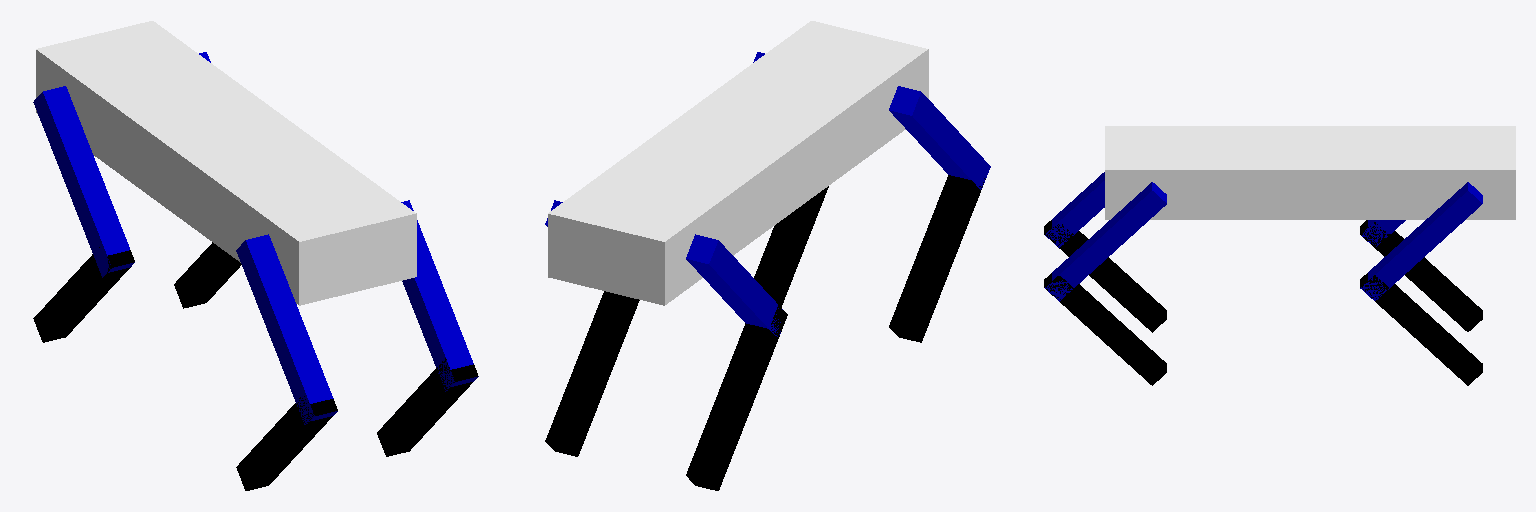
robot.urdf — telos:
<?xml version="1.0" ?>
<!-- =================================================================================== -->
<!-- |    This document was autogenerated by xacro from telos.xacro                    | -->
<!-- |    EDITING THIS FILE BY HAND IS NOT RECOMMENDED                                 | -->
<!-- =================================================================================== -->
<robot name="telos">
  <!-- ros_control plugin -->
  <gazebo>
    <plugin filename="libgazebo_ros_control.so" name="gazebo_ros_control">
      <robotNamespace>/telos</robotNamespace>
      <robotSimType>gazebo_ros_control/DefaultRobotHWSim</robotSimType>
    </plugin>
  </gazebo>
  <gazebo>
    <plugin filename="move_plugin.so" name="move"/>
  </gazebo>
  <!-- <xacro:property name="thighMass" value="0.4"/> -->
  <material name="black">
    <color rgba="0.0 0.0 0.0 1.0"/>
  </material>
  <material name="blue">
    <color rgba="0.0 0.0 0.8 1.0"/>
  </material>
  <material name="green">
    <color rgba="0.0 0.8 0.0 1.0"/>
  </material>
  <material name="grey">
    <color rgba="0.2 0.2 0.2 1.0"/>
  </material>
  <material name="orange">
    <color rgba="1.0 0.4235294117647059 0.0392156862745098 1.0"/>
  </material>
  <material name="brown">
    <color rgba="0.8705882352941177 0.8117647058823529 0.7647058823529411 1.0"/>
  </material>
  <material name="red">
    <color rgba="0.8 0.0 0.0 1.0"/>
  </material>
  <material name="white">
    <color rgba="1.0 1.0 1.0 1.0"/>
  </material>
  <!-- <link name="base_link"/>
    
<joint name="fixed" type="fixed">
    <parent link="base_link"/>
    ACHTUNG
    <child link="corpus"/>
    <origin xyz="0.0 0.0 0.0"/>
</joint> -->
  <link name="base_link">
    <visual>
      <geometry>
        <box size=".1 0.39 0.052"/>
        <box size="0.1 0.39 0.052"/>
      </geometry>
      <origin rpy="0.0 0.0 0.0" xyz="0 0 0"/>
      <material name="white"/>
    </visual>
    <collision>
      <geometry>
        <box size="0.1 0.39 0.052"/>
      </geometry>
    </collision>
    <inertial>
      <mass value="2.5"/>
      <inertia ixx="0.032250833" ixy="0.0" ixz="0.0" iyy="0.002646667" iyz="0.0" izz="0.033770833"/>
    </inertial>
  </link>
  <link name="right_front_rotator">
    <visual>
      <geometry>
        <box size="1e-13 1e-13 1e-13"/>
      </geometry>
      <origin xyz="0 0 0"/>
      <material name="black"/>
    </visual>
    <!-- <collision>
            <geometry>
                <box size="${corpusWidth} ${corpusDepth} ${corpusHeight}"/> 
            </geometry>
        </collision> -->
    <inertial>
      <mass value="0.0001"/>
      <inertia ixx="0.00000000001" ixy="0.0" ixz="0.0" iyy="0.00000000001" iyz="0.0" izz="0.00000000001"/>
    </inertial>
  </link>
  <joint name="corpus_to_right_front_rotator" type="revolute">
    <axis xyz="0.0 1 0.0"/>
    <limit effort="1000.0" lower="-1.253294755" upper="1.253294755" velocity="0.5"/>
    <parent link="base_link"/>
    <child link="right_front_rotator"/>
    <origin xyz="0.06 0.15 0"/>
  </joint>
  <transmission name="right_front_rotator_transmission">
    <type>transmission_interface/SimpleTransmission</type>
    <joint name="corpus_to_right_front_rotator">
      <hardwareInterface>hardware_interface/EffortJointInterface</hardwareInterface>
    </joint>
    <actuator name="right_front_motor">
      <mechanicalReduction>&quot;1.88&quot;</mechanicalReduction>
      <hardwareInterface>hardware_interface/EffortJointInterface</hardwareInterface>
    </actuator>
  </transmission>
  <link name="right_front_thigh">
    <visual>
      <geometry>
        <box size="0.02 0.145 0.02"/>
      </geometry>
      <origin xyz="0 -0.0625 0"/>
      <material name="blue"/>
    </visual>
    <collision>
      <geometry>
        <box size="0.02 0.145 0.02"/>
      </geometry>
    </collision>
    <inertial>
      <mass value="0.8"/>
      <!-- <inertia ixx="0.000704167" ixy="0.0" ixz="0.0"
         iyy="0.0000532292" iyz="0.0" izz="0.0000704167"/> -->
      <inertia ixx="0.000904167" ixy="0.0" ixz="0.0" iyy="0.0000732292" iyz="0.0" izz="0.0000904167"/>
    </inertial>
  </link>
  <joint name="rotator_to_right_front_thigh" type="revolute">
    <axis xyz="1 0.0 0.0"/>
    <limit effort="1000.0" lower="-1.253294755" upper="1.253294755" velocity="0.5"/>
    <parent link="right_front_rotator"/>
    <child link="right_front_thigh"/>
    <origin rpy="0.785 0.0 0.0" xyz="0.0 0.0 0.0"/>
  </joint>
  <transmission name="right_front_thigh_transmission">
    <type>transmission_interface/SimpleTransmission</type>
    <joint name="rotator_to_right_front_thigh">
      <hardwareInterface>hardware_interface/EffortJointInterface</hardwareInterface>
    </joint>
    <actuator name="right_front_thigh_motor">
      <mechanicalReduction>&quot;1.88&quot;</mechanicalReduction>
      <hardwareInterface>hardware_interface/EffortJointInterface</hardwareInterface>
    </actuator>
  </transmission>
  <link name="right_front_feet">
    <visual>
      <geometry>
        <box size="0.02 0.145 0.02"/>
      </geometry>
      <origin xyz="0.0 -0.0625 0.0"/>
      <material name="black"/>
    </visual>
    <collision>
      <geometry>
        <box size="0.02 0.145 0.02"/>
      </geometry>
    </collision>
    <inertial>
      <mass value="0.1"/>
      <!-- <inertia ixx="0.000704167" ixy="0.0" ixz="0.0"
         iyy="0.000532292" iyz="0.0" izz="0.000704167"/> -->
      <inertia ixx="0,[number redacted]" ixy="0.0" ixz="0.0" iyy="0.665365" iyz="0.0" izz="0,[number redacted]"/>
    </inertial>
  </link>
  <joint name="thigh_to_right_front_feet" type="revolute">
    <axis xyz="1 0.0 0.0"/>
    <limit effort="1000.0" lower="-0.785" upper="0.785" velocity="0.5"/>
    <parent link="right_front_thigh"/>
    <child link="right_front_feet"/>
    <origin rpy="1.57 0.0 0.0" xyz="0 -0.125 0"/>
  </joint>
  <transmission name="right_front_feet_transmission">
    <type>transmission_interface/SimpleTransmission</type>
    <joint name="thigh_to_right_front_feet">
      <hardwareInterface>hardware_interface/EffortJointInterface</hardwareInterface>
    </joint>
    <actuator name="right_front_feet_motor">
      <mechanicalReduction>&quot;1.5&quot;</mechanicalReduction>
      <hardwareInterface>hardware_interface/EffortJointInterface</hardwareInterface>
    </actuator>
  </transmission>
  <link name="left_front_rotator">
    <visual>
      <geometry>
        <box size="1e-13 1e-13 1e-13"/>
      </geometry>
      <origin xyz="0 0 0"/>
      <material name="black"/>
    </visual>
    <!-- <collision>
            <geometry>
                <box size="${corpusWidth} ${corpusDepth} ${corpusHeight}"/> 
            </geometry>
        </collision> -->
    <inertial>
      <mass value="0.0001"/>
      <inertia ixx="0.00000000001" ixy="0.0" ixz="0.0" iyy="0.00000000001" iyz="0.0" izz="0.00000000001"/>
    </inertial>
  </link>
  <joint name="corpus_to_left_front_rotator" type="revolute">
    <axis xyz="0.0 1 0.0"/>
    <limit effort="1000.0" lower="-1.253294755" upper="1.253294755" velocity="0.5"/>
    <parent link="base_link"/>
    <child link="left_front_rotator"/>
    <origin xyz="-0.06 0.15 0"/>
  </joint>
  <transmission name="left_front_rotator_transmission">
    <type>transmission_interface/SimpleTransmission</type>
    <joint name="corpus_to_left_front_rotator">
      <hardwareInterface>hardware_interface/EffortJointInterface</hardwareInterface>
    </joint>
    <actuator name="left_front_motor">
      <mechanicalReduction>&quot;1.88&quot;</mechanicalReduction>
      <hardwareInterface>hardware_interface/EffortJointInterface</hardwareInterface>
    </actuator>
  </transmission>
  <link name="left_front_thigh">
    <visual>
      <geometry>
        <box size="0.02 0.145 0.02"/>
      </geometry>
      <origin xyz="0 -0.0625 0"/>
      <material name="blue"/>
    </visual>
    <collision>
      <geometry>
        <box size="0.02 0.145 0.02"/>
      </geometry>
    </collision>
    <inertial>
      <mass value="0.8"/>
      <!-- <inertia ixx="0.000704167" ixy="0.0" ixz="0.0"
         iyy="0.0000532292" iyz="0.0" izz="0.0000704167"/> -->
      <inertia ixx="0.000904167" ixy="0.0" ixz="0.0" iyy="0.0000732292" iyz="0.0" izz="0.0000904167"/>
    </inertial>
  </link>
  <joint name="rotator_to_left_front_thigh" type="revolute">
    <axis xyz="1 0.0 0.0"/>
    <limit effort="1000.0" lower="-1.253294755" upper="1.253294755" velocity="0.5"/>
    <parent link="left_front_rotator"/>
    <child link="left_front_thigh"/>
    <origin rpy="0.785 0.0 0.0" xyz="0.0 0.0 0.0"/>
  </joint>
  <transmission name="left_front_thigh_transmission">
    <type>transmission_interface/SimpleTransmission</type>
    <joint name="rotator_to_left_front_thigh">
      <hardwareInterface>hardware_interface/EffortJointInterface</hardwareInterface>
    </joint>
    <actuator name="left_front_thigh_motor">
      <mechanicalReduction>&quot;1.88&quot;</mechanicalReduction>
      <hardwareInterface>hardware_interface/EffortJointInterface</hardwareInterface>
    </actuator>
  </transmission>
  <link name="left_front_feet">
    <visual>
      <geometry>
        <box size="0.02 0.145 0.02"/>
      </geometry>
      <origin xyz="0.0 -0.0625 0.0"/>
      <material name="black"/>
    </visual>
    <collision>
      <geometry>
        <box size="0.02 0.145 0.02"/>
      </geometry>
    </collision>
    <inertial>
      <mass value="0.1"/>
      <!-- <inertia ixx="0.000704167" ixy="0.0" ixz="0.0"
         iyy="0.000532292" iyz="0.0" izz="0.000704167"/> -->
      <inertia ixx="0,[number redacted]" ixy="0.0" ixz="0.0" iyy="0.665365" iyz="0.0" izz="0,[number redacted]"/>
    </inertial>
  </link>
  <joint name="thigh_to_left_front_feet" type="revolute">
    <axis xyz="1 0.0 0.0"/>
    <limit effort="1000.0" lower="-0.785" upper="0.785" velocity="0.5"/>
    <parent link="left_front_thigh"/>
    <child link="left_front_feet"/>
    <origin rpy="1.57 0.0 0.0" xyz="0 -0.125 0"/>
  </joint>
  <transmission name="left_front_feet_transmission">
    <type>transmission_interface/SimpleTransmission</type>
    <joint name="thigh_to_left_front_feet">
      <hardwareInterface>hardware_interface/EffortJointInterface</hardwareInterface>
    </joint>
    <actuator name="left_front_feet_motor">
      <mechanicalReduction>&quot;1.5&quot;</mechanicalReduction>
      <hardwareInterface>hardware_interface/EffortJointInterface</hardwareInterface>
    </actuator>
  </transmission>
  <link name="right_back_rotator">
    <visual>
      <geometry>
        <box size="1e-13 1e-13 1e-13"/>
      </geometry>
      <origin xyz="0 0 0"/>
      <material name="black"/>
    </visual>
    <!-- <collision>
            <geometry>
                <box size="${corpusWidth} ${corpusDepth} ${corpusHeight}"/> 
            </geometry>
        </collision> -->
    <inertial>
      <mass value="0.0001"/>
      <inertia ixx="0.00000000001" ixy="0.0" ixz="0.0" iyy="0.00000000001" iyz="0.0" izz="0.00000000001"/>
    </inertial>
  </link>
  <joint name="corpus_to_right_back_rotator" type="revolute">
    <axis xyz="0.0 1 0.0"/>
    <limit effort="1000.0" lower="-1.253294755" upper="1.253294755" velocity="0.5"/>
    <parent link="base_link"/>
    <child link="right_back_rotator"/>
    <origin xyz="0.06 -0.15 0"/>
  </joint>
  <transmission name="right_back_rotator_transmission">
    <type>transmission_interface/SimpleTransmission</type>
    <joint name="corpus_to_right_back_rotator">
      <hardwareInterface>hardware_interface/EffortJointInterface</hardwareInterface>
    </joint>
    <actuator name="right_back_motor">
      <mechanicalReduction>&quot;1.88&quot;</mechanicalReduction>
      <hardwareInterface>hardware_interface/EffortJointInterface</hardwareInterface>
    </actuator>
  </transmission>
  <link name="right_back_thigh">
    <visual>
      <geometry>
        <box size="0.02 0.145 0.02"/>
      </geometry>
      <origin xyz="0 -0.0625 0"/>
      <material name="blue"/>
    </visual>
    <collision>
      <geometry>
        <box size="0.02 0.145 0.02"/>
      </geometry>
    </collision>
    <inertial>
      <mass value="0.8"/>
      <!-- <inertia ixx="0.000704167" ixy="0.0" ixz="0.0"
         iyy="0.0000532292" iyz="0.0" izz="0.0000704167"/> -->
      <inertia ixx="0.000904167" ixy="0.0" ixz="0.0" iyy="0.0000732292" iyz="0.0" izz="0.0000904167"/>
    </inertial>
  </link>
  <joint name="rotator_to_right_back_thigh" type="revolute">
    <axis xyz="1 0.0 0.0"/>
    <limit effort="1000.0" lower="-1.253294755" upper="1.253294755" velocity="0.5"/>
    <parent link="right_back_rotator"/>
    <child link="right_back_thigh"/>
    <origin rpy="0.785 0.0 0.0" xyz="0.0 0.0 0.0"/>
  </joint>
  <transmission name="right_back_thigh_transmission">
    <type>transmission_interface/SimpleTransmission</type>
    <joint name="rotator_to_right_back_thigh">
      <hardwareInterface>hardware_interface/EffortJointInterface</hardwareInterface>
    </joint>
    <actuator name="right_back_thigh_motor">
      <mechanicalReduction>&quot;1.88&quot;</mechanicalReduction>
      <hardwareInterface>hardware_interface/EffortJointInterface</hardwareInterface>
    </actuator>
  </transmission>
  <link name="right_back_feet">
    <visual>
      <geometry>
        <box size="0.02 0.145 0.02"/>
      </geometry>
      <origin xyz="0.0 -0.0625 0.0"/>
      <material name="black"/>
    </visual>
    <collision>
      <geometry>
        <box size="0.02 0.145 0.02"/>
      </geometry>
    </collision>
    <inertial>
      <mass value="0.1"/>
      <!-- <inertia ixx="0.000704167" ixy="0.0" ixz="0.0"
         iyy="0.000532292" iyz="0.0" izz="0.000704167"/> -->
      <inertia ixx="0,[number redacted]" ixy="0.0" ixz="0.0" iyy="0.665365" iyz="0.0" izz="0,[number redacted]"/>
    </inertial>
  </link>
  <joint name="thigh_to_right_back_feet" type="revolute">
    <axis xyz="1 0.0 0.0"/>
    <limit effort="1000.0" lower="-0.785" upper="0.785" velocity="0.5"/>
    <parent link="right_back_thigh"/>
    <child link="right_back_feet"/>
    <origin rpy="1.57 0.0 0.0" xyz="0 -0.125 0"/>
  </joint>
  <transmission name="right_back_feet_transmission">
    <type>transmission_interface/SimpleTransmission</type>
    <joint name="thigh_to_right_back_feet">
      <hardwareInterface>hardware_interface/EffortJointInterface</hardwareInterface>
    </joint>
    <actuator name="right_back_feet_motor">
      <mechanicalReduction>&quot;1.5&quot;</mechanicalReduction>
      <hardwareInterface>hardware_interface/EffortJointInterface</hardwareInterface>
    </actuator>
  </transmission>
  <link name="left_back_rotator">
    <visual>
      <geometry>
        <box size="1e-13 1e-13 1e-13"/>
      </geometry>
      <origin xyz="0 0 0"/>
      <material name="black"/>
    </visual>
    <!-- <collision>
            <geometry>
                <box size="${corpusWidth} ${corpusDepth} ${corpusHeight}"/> 
            </geometry>
        </collision> -->
    <inertial>
      <mass value="0.0001"/>
      <inertia ixx="0.00000000001" ixy="0.0" ixz="0.0" iyy="0.00000000001" iyz="0.0" izz="0.00000000001"/>
    </inertial>
  </link>
  <joint name="corpus_to_left_back_rotator" type="revolute">
    <axis xyz="0.0 1 0.0"/>
    <limit effort="1000.0" lower="-1.253294755" upper="1.253294755" velocity="0.5"/>
    <parent link="base_link"/>
    <child link="left_back_rotator"/>
    <origin xyz="-0.06 -0.15 0"/>
  </joint>
  <transmission name="left_back_rotator_transmission">
    <type>transmission_interface/SimpleTransmission</type>
    <joint name="corpus_to_left_back_rotator">
      <hardwareInterface>hardware_interface/EffortJointInterface</hardwareInterface>
    </joint>
    <actuator name="left_back_motor">
      <mechanicalReduction>&quot;1.88&quot;</mechanicalReduction>
      <hardwareInterface>hardware_interface/EffortJointInterface</hardwareInterface>
    </actuator>
  </transmission>
  <link name="left_back_thigh">
    <visual>
      <geometry>
        <box size="0.02 0.145 0.02"/>
      </geometry>
      <origin xyz="0 -0.0625 0"/>
      <material name="blue"/>
    </visual>
    <collision>
      <geometry>
        <box size="0.02 0.145 0.02"/>
      </geometry>
    </collision>
    <inertial>
      <mass value="0.8"/>
      <!-- <inertia ixx="0.000704167" ixy="0.0" ixz="0.0"
         iyy="0.0000532292" iyz="0.0" izz="0.0000704167"/> -->
      <inertia ixx="0.000904167" ixy="0.0" ixz="0.0" iyy="0.0000732292" iyz="0.0" izz="0.0000904167"/>
    </inertial>
  </link>
  <joint name="rotator_to_left_back_thigh" type="revolute">
    <axis xyz="1 0.0 0.0"/>
    <limit effort="1000.0" lower="-1.253294755" upper="1.253294755" velocity="0.5"/>
    <parent link="left_back_rotator"/>
    <child link="left_back_thigh"/>
    <origin rpy="0.785 0.0 0.0" xyz="0.0 0.0 0.0"/>
  </joint>
  <transmission name="left_back_thigh_transmission">
    <type>transmission_interface/SimpleTransmission</type>
    <joint name="rotator_to_left_back_thigh">
      <hardwareInterface>hardware_interface/EffortJointInterface</hardwareInterface>
    </joint>
    <actuator name="left_back_thigh_motor">
      <mechanicalReduction>&quot;1.88&quot;</mechanicalReduction>
      <hardwareInterface>hardware_interface/EffortJointInterface</hardwareInterface>
    </actuator>
  </transmission>
  <link name="left_back_feet">
    <visual>
      <geometry>
        <box size="0.02 0.145 0.02"/>
      </geometry>
      <origin xyz="0.0 -0.0625 0.0"/>
      <material name="black"/>
    </visual>
    <collision>
      <geometry>
        <box size="0.02 0.145 0.02"/>
      </geometry>
    </collision>
    <inertial>
      <mass value="0.1"/>
      <!-- <inertia ixx="0.000704167" ixy="0.0" ixz="0.0"
         iyy="0.000532292" iyz="0.0" izz="0.000704167"/> -->
      <inertia ixx="0,[number redacted]" ixy="0.0" ixz="0.0" iyy="0.665365" iyz="0.0" izz="0,[number redacted]"/>
    </inertial>
  </link>
  <joint name="thigh_to_left_back_feet" type="revolute">
    <axis xyz="1 0.0 0.0"/>
    <limit effort="1000.0" lower="-0.785" upper="0.785" velocity="0.5"/>
    <parent link="left_back_thigh"/>
    <child link="left_back_feet"/>
    <origin rpy="1.57 0.0 0.0" xyz="0 -0.125 0"/>
  </joint>
  <transmission name="left_back_feet_transmission">
    <type>transmission_interface/SimpleTransmission</type>
    <joint name="thigh_to_left_back_feet">
      <hardwareInterface>hardware_interface/EffortJointInterface</hardwareInterface>
    </joint>
    <actuator name="left_back_feet_motor">
      <mechanicalReduction>&quot;1.5&quot;</mechanicalReduction>
      <hardwareInterface>hardware_interface/EffortJointInterface</hardwareInterface>
    </actuator>
  </transmission>
</robot>

--- Facts derived from the render (not from the file) ---
The picture shows the robot from 3 angles, left to right: view 1: azimuth 30°, elevation 25°; view 2: azimuth 150°, elevation 25°; view 3: azimuth 270°, elevation 25°; orthographic projection.
Robot: telos — 13 links, 12 joints (12 revolute); root link base_link; default pose: every joint at zero.
Links seen in each view (by area): view 1: base_link, left_front_thigh, left_back_thigh, right_back_thigh, right_back_feet, left_back_feet, left_front_feet, right_front_feet; view 2: base_link, left_front_feet, left_back_feet, right_front_feet, left_back_thigh, left_front_thigh, right_back_feet; view 3: base_link, right_back_thigh, right_front_thigh, right_front_feet, right_back_feet, left_front_feet, left_back_feet, left_back_thigh.
Link boxes in pixels (box(x1,y1,x2,y2)): base_link: box(36, 21, 416, 305); left_front_thigh: box(33, 86, 134, 277); left_back_thigh: box(236, 234, 337, 424); right_back_thigh: box(401, 200, 478, 391); right_back_feet: box(377, 358, 477, 456); left_back_feet: box(236, 396, 337, 490); left_front_feet: box(33, 247, 134, 342); right_front_feet: box(174, 242, 241, 308); base_link: box(548, 21, 928, 305); left_front_feet: box(686, 305, 787, 490); left_back_feet: box(889, 175, 985, 342); right_front_feet: box(545, 291, 639, 456); left_back_thigh: box(889, 86, 990, 189); left_front_thigh: box(686, 234, 782, 336); right_back_feet: box(754, 186, 828, 307); base_link: box(1105, 126, 1515, 219); right_back_thigh: box(1045, 182, 1166, 301); right_front_thigh: box(1360, 182, 1482, 300); right_front_feet: box(1360, 273, 1482, 385); right_back_feet: box(1044, 273, 1166, 385); left_front_feet: box(1360, 220, 1482, 331); left_back_feet: box(1044, 220, 1166, 332); left_back_thigh: box(1045, 172, 1104, 247).
Bounding box of the posed robot: 0.14 × 0.4476 × 0.217 m (x, y, z).
Geometry: primitives only (box / cylinder / sphere), no mesh files.